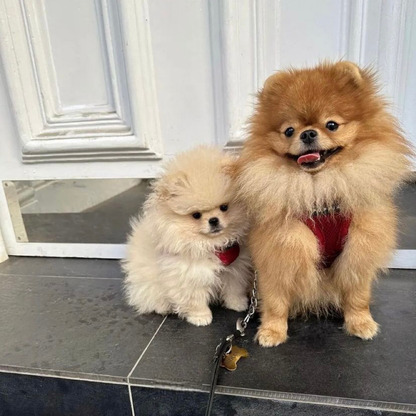Pomeranian: (247, 64, 392, 350), (132, 154, 264, 329)
